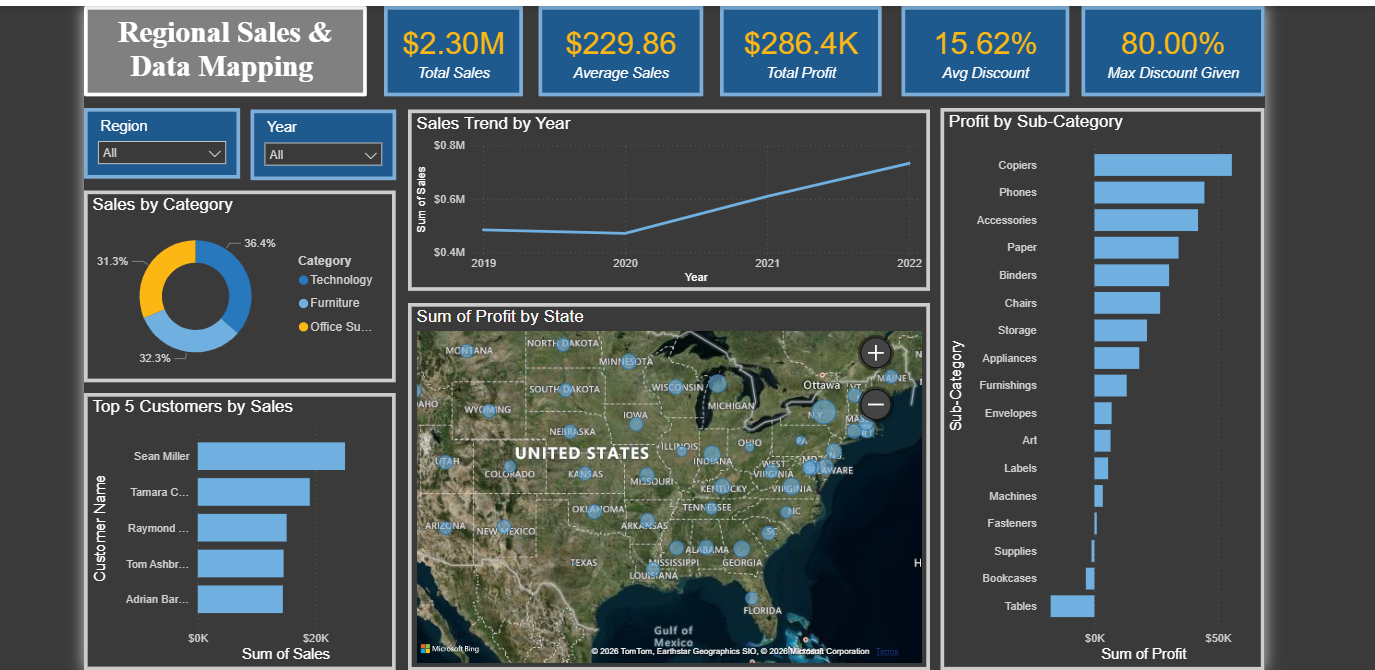

What the dashboard file says about the page in this screenshot:
{"tool":"powerbi","page":{"name":"Page 1","canvas":[1280,720],"ordinal":0},"visuals":[{"type":"map","fields":{"Category":["Orders.State"],"Size":["Sum(Orders.Profit)"]},"box":[351.3,322.1,566,398.5],"z":0},{"type":"clusteredBarChart","title":"Profit by Sub-Category","fields":{"Category":["Orders.Sub-Category"],"Y":["Sum(Orders.Profit)"]},"box":[928.8,110.6,351.3,610],"z":1000},{"type":"card","fields":{"Values":["Sum(Orders.Sales)"]},"box":[324.7,0,150.7,97.7],"z":2000},{"type":"card","fields":{"Values":["Avg(Orders.Sales)"]},"box":[493.6,0,178.9,97.7],"z":3000},{"type":"card","fields":{"Values":["Sum(Orders.Profit)"]},"box":[689.1,0,175.6,97.7],"z":4000},{"type":"card","fields":{"Values":["Avg(Orders.Discount)"]},"box":[886.2,0,182.2,97.7],"z":5000},{"type":"card","fields":{"Values":["Max(Orders.Discount)"]},"box":[1081.7,0,198.8,97.7],"z":6000},{"type":"textbox","box":[0,0,306.4,97.7],"z":7000},{"type":"slicer","fields":{"Values":["Orders.Region"]},"box":[0,110.6,169.2,76.4],"z":8000},{"type":"slicer","fields":{"Values":["Orders.Order Date.Variation.Date Hierarchy.Year"]},"box":[180.5,112.2,157.8,76.4],"z":9000},{"type":"lineChart","title":"Sales Trend by Year","fields":{"Category":["Orders.Order Date.Variation.Date Hierarchy.Year"],"Y":["Sum(Orders.Sales)"]},"box":[351.3,112.2,566,196.8],"z":10000},{"type":"donutChart","title":"Sales by Category","fields":{"Category":["Orders.Category"],"Y":["Sum(Orders.Sales)"]},"box":[0,200.1,338.3,208.2],"z":10001},{"type":"barChart","title":"Top 5 Customers by Sales","fields":{"Category":["Orders.Customer Name"],"Y":["Sum(Orders.Sales)"]},"box":[0,419.6,338.3,300.9],"z":10002}]}

Visuals, with their boxes in screenshot pixels (x1, y1, x2, y2):
map - Orders.State x Sum(Orders.Profit): 408, 299, 927, 664
"Profit by Sub-Category" clusteredBarChart: 938, 105, 1260, 664
card - Sum(Orders.Sales): 384, 4, 522, 93
card - Avg(Orders.Sales): 539, 4, 703, 93
card - Sum(Orders.Profit): 718, 4, 879, 93
card - Avg(Orders.Discount): 899, 4, 1066, 93
card - Max(Orders.Discount): 1078, 4, 1260, 93
textbox: 86, 4, 367, 93
slicer - Orders.Region: 86, 105, 241, 175
slicer - Orders.Order Date.Variation.Date Hierarchy.Year: 251, 106, 396, 177
"Sales Trend by Year" lineChart: 408, 106, 927, 287
"Sales by Category" donutChart: 86, 187, 396, 378
"Top 5 Customers by Sales" barChart: 86, 388, 396, 664
